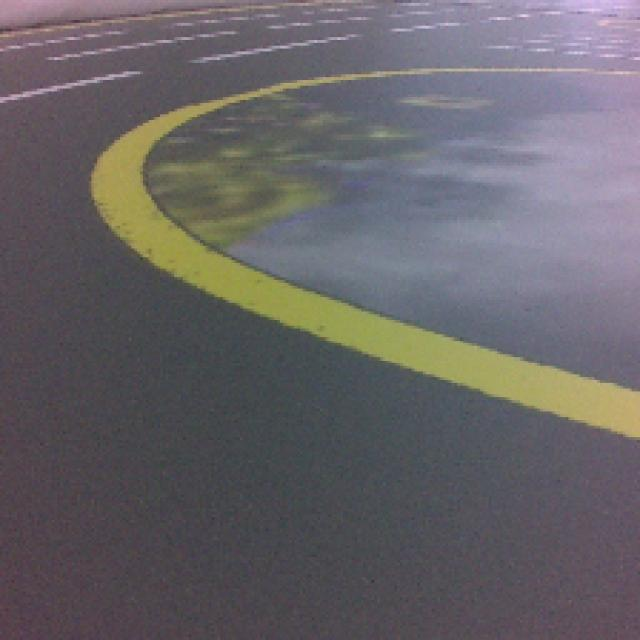Pedestrian crosswalk: (252, 275, 640, 438)
